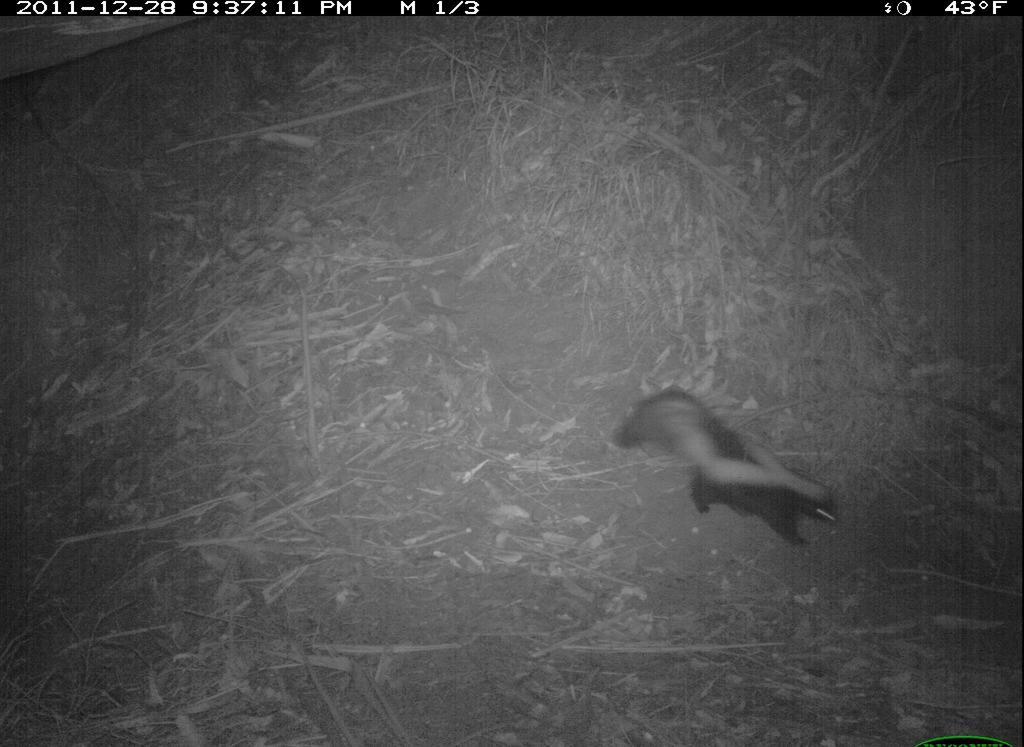skunk: (601, 377, 854, 559)
